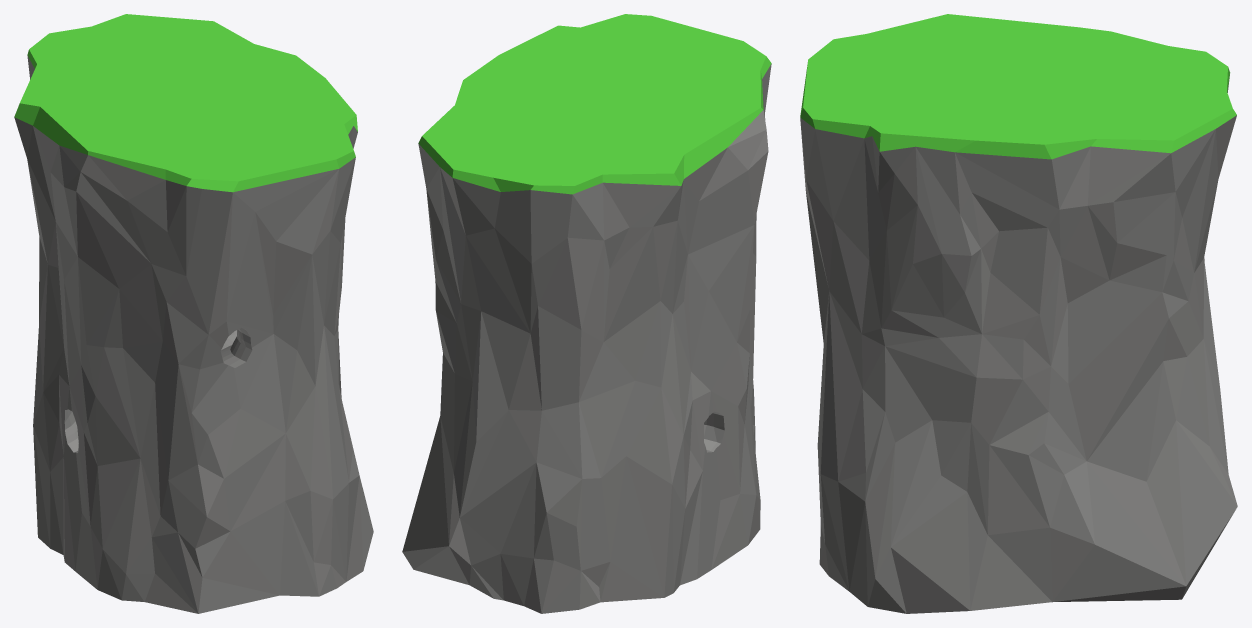
The model's file is test_cave_lake.glb.
3 views of the same model, side by side, from view 1: azimuth 30°, elevation 25°; view 2: azimuth 150°, elevation 25°; view 3: azimuth 270°, elevation 25° (orthographic). The views are drawn at different scales.
Visible parts, largest first — view 1: cliff_simple.008; view 2: cliff_simple.008; view 3: cliff_simple.008.
Part boxes in pixels (x1,y1,x2,y2): cliff_simple.008: [14, 14, 373, 613]; cliff_simple.008: [402, 14, 771, 613]; cliff_simple.008: [800, 14, 1237, 613].
Size of the model in its own units: 4.13 by 6.72 by 5.58.
